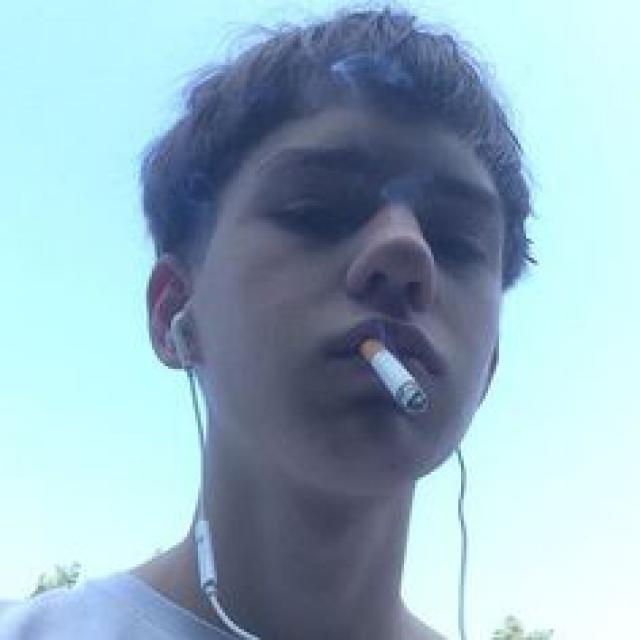smoking: (346, 327, 439, 421)
